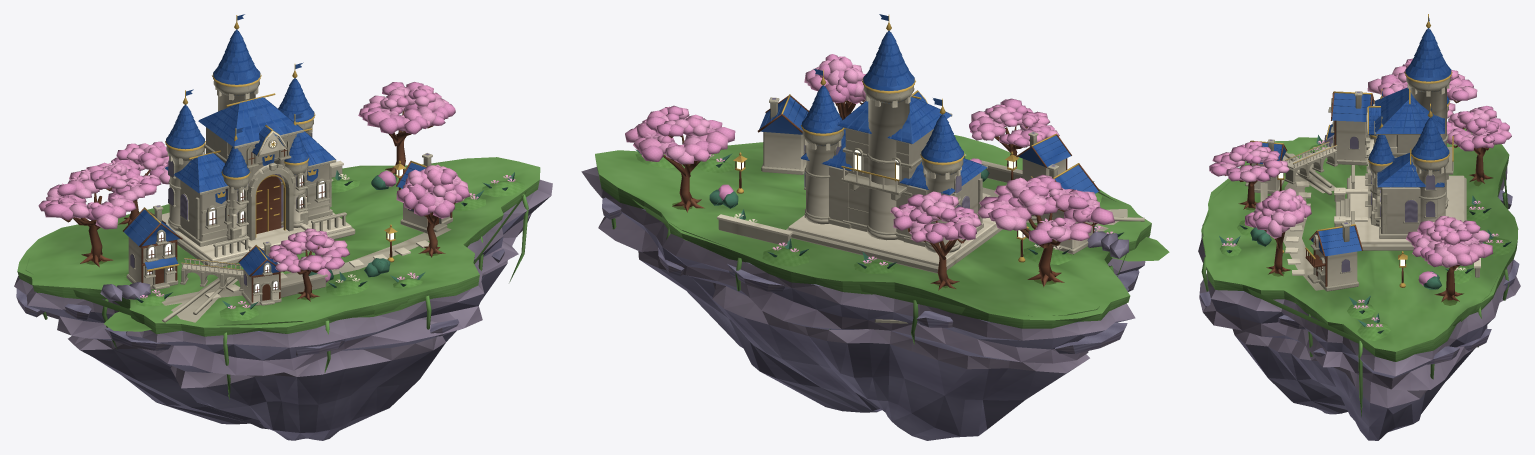
The model's file is royal-island-left-final-v1.glb.
3 views of the same model, side by side, from view 1: azimuth 30°, elevation 25°; view 2: azimuth 150°, elevation 25°; view 3: azimuth 270°, elevation 25° (orthographic). The views are drawn at different scales.
Parts seen in each view (by area): view 1: royal-island-left-final-v1; view 2: royal-island-left-final-v1; view 3: royal-island-left-final-v1.
Part boxes in pixels (bbox=[...]): royal-island-left-final-v1: bbox=[14, 14, 552, 440]; royal-island-left-final-v1: bbox=[581, 14, 1169, 440]; royal-island-left-final-v1: bbox=[1198, 14, 1520, 440].
Size of the model in its own units: 20.82 by 15.19 by 11.66.
10 materials, 10 textured.
